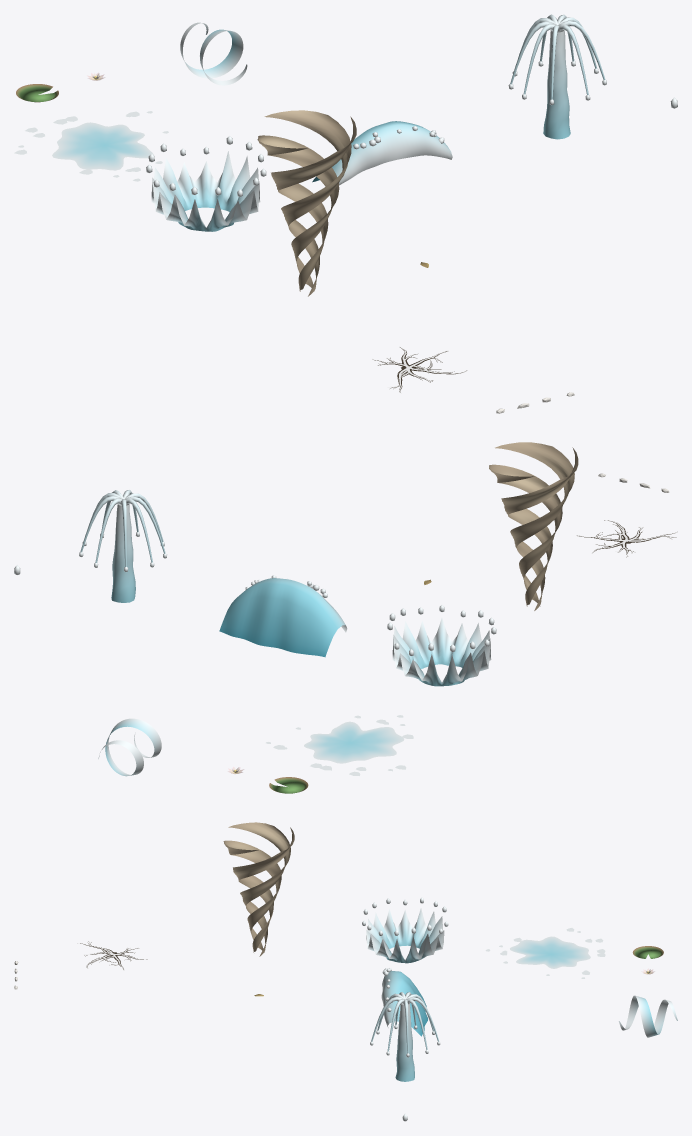
File: impacto_fx.glb
3 views of the same model, one above another, from view 1: azimuth 30°, elevation 25°; view 2: azimuth 150°, elevation 25°; view 3: azimuth 270°, elevation 25° (orthographic). The views are drawn at different scales.
Parts seen in each view (by area): view 1: Redemoinho, Coroa, Jato, Espuma, Onda, Espiral, Vitoria; view 2: Onda, Redemoinho, Coroa, Jato, Espuma, Espiral; view 3: Redemoinho, Coroa, Jato, Espuma, Onda, Espiral.
Part boxes in pixels (bbox=[...]): Redemoinho: bbox=[257, 110, 356, 296]; Coroa: bbox=[146, 136, 266, 231]; Jato: bbox=[508, 14, 606, 139]; Espuma: bbox=[14, 111, 168, 181]; Onda: bbox=[312, 121, 452, 185]; Espiral: bbox=[180, 22, 247, 85]; Vitoria: bbox=[16, 84, 58, 102]; Onda: bbox=[219, 575, 347, 657]; Redemoinho: bbox=[489, 442, 578, 610]; Coroa: bbox=[387, 605, 496, 686]; Jato: bbox=[79, 490, 167, 602]; Espuma: bbox=[266, 715, 413, 775]; Espiral: bbox=[98, 718, 161, 776]; Redemoinho: bbox=[223, 822, 294, 956]; Coroa: bbox=[362, 897, 448, 963]; Jato: bbox=[370, 992, 440, 1081]; Espuma: bbox=[485, 928, 605, 978]; Onda: bbox=[381, 968, 427, 1036]; Espiral: bbox=[618, 995, 677, 1037].
Bounding box in the file's own units: 9.36 × 3.16 × 13.65.
